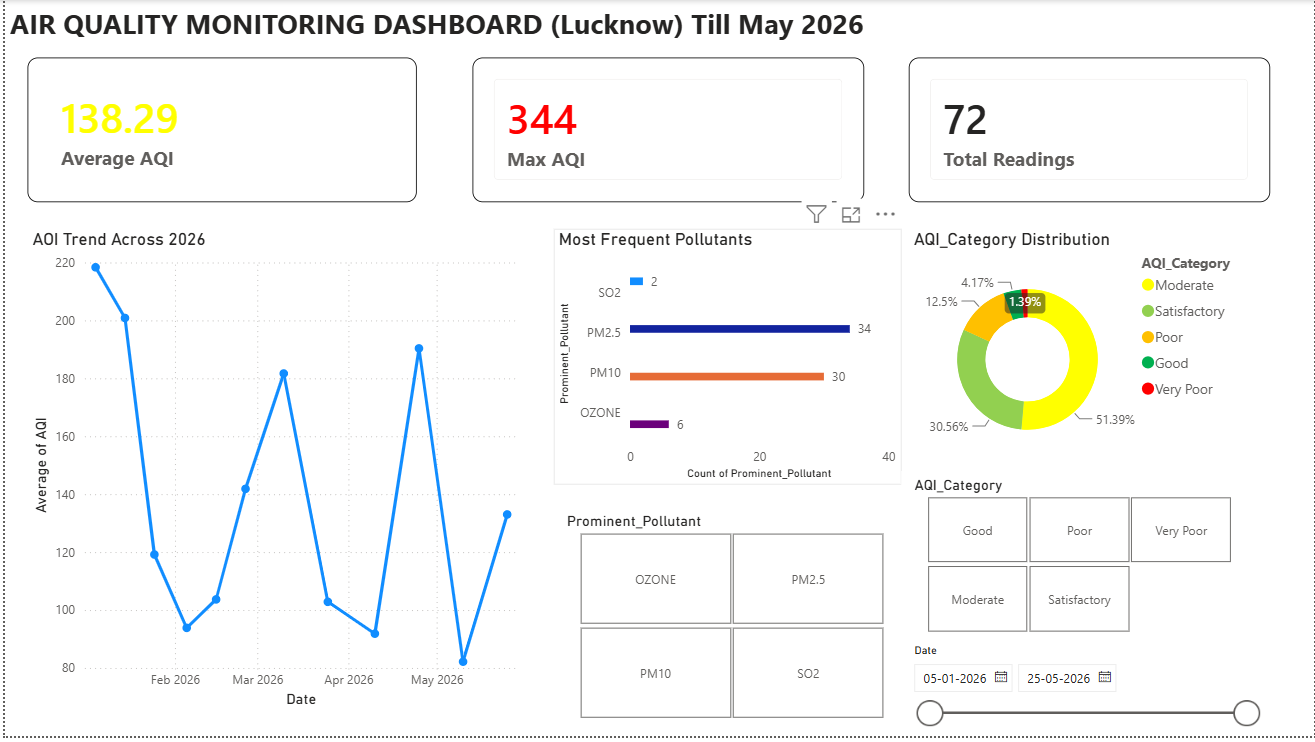

The dashboard page shown, as its layout file describes it:
{"tool":"powerbi","page":{"name":"Page 1","canvas":[1280,720],"ordinal":0},"visuals":[{"type":"cardVisual","fields":{"Data":["AQI_LKO_2026.Average AQI"]},"box":[22.3,56.3,380.9,141.4],"z":0},{"type":"cardVisual","fields":{"Data":["AQI_LKO_2026.Max AQI"]},"box":[456.9,56.3,383.6,141.4],"z":1000},{"type":"cardVisual","fields":{"Data":["AQI_LKO_2026.Total Readings"]},"box":[883.6,56.3,353.5,141.4],"z":2000},{"type":"lineChart","title":"AOI Trend Across 2026","fields":{"Y":["Avg(AQI_LKO_2026.AQI)"],"Category":["AQI_LKO_2026.Date"]},"box":[22.6,224.1,500.4,473.7],"z":3000},{"type":"clusteredBarChart","title":"Most Frequent Pollutants","fields":{"Category":["AQI_LKO_2026.Prominent_Pollutant"],"Series":["AQI_LKO_2026.Prominent_Pollutant"],"Y":["CountNonNull(AQI_LKO_2026.Prominent_Pollutant)"]},"box":[537.1,224.1,339.7,250.9],"z":4000},{"type":"donutChart","title":"AQI_Category Distribution","fields":{"Category":["AQI_LKO_2026.AQI_Category"],"Y":["CountNonNull(AQI_LKO_2026.AQI_Category)"]},"box":[883.9,224.1,339.7,236.8],"z":5000},{"type":"slicer","fields":{"Values":["AQI_LKO_2026.Date"]},"box":[876.8,624.5,359.5,95.9],"z":6000},{"type":"slicer","fields":{"Values":["AQI_LKO_2026.AQI_Category"]},"box":[876.8,461,346.8,163.5],"z":7000},{"type":"slicer","fields":{"Values":["AQI_LKO_2026.Prominent_Pollutant"]},"box":[537.1,496.2,346.8,212.9],"z":8000},{"type":"textbox","box":[0,0,1280.3,47.1],"z":9000}]}

Visuals, with their boxes in screenshot pixels (x1, y1, x2, y2), scaled from the page's 1280x720 canvas onto the 1315x742 screenshot:
cardVisual - AQI_LKO_2026.Average AQI: <bbox>23, 58, 414, 204</bbox>
cardVisual - AQI_LKO_2026.Max AQI: <bbox>469, 58, 863, 204</bbox>
cardVisual - AQI_LKO_2026.Total Readings: <bbox>908, 58, 1271, 204</bbox>
"AOI Trend Across 2026" lineChart: <bbox>23, 231, 537, 719</bbox>
"Most Frequent Pollutants" clusteredBarChart: <bbox>552, 231, 901, 490</bbox>
"AQI_Category Distribution" donutChart: <bbox>908, 231, 1257, 475</bbox>
slicer - AQI_LKO_2026.Date: <bbox>901, 644, 1270, 741</bbox>
slicer - AQI_LKO_2026.AQI_Category: <bbox>901, 475, 1257, 644</bbox>
slicer - AQI_LKO_2026.Prominent_Pollutant: <bbox>552, 511, 908, 731</bbox>
textbox: <bbox>0, 0, 1314, 49</bbox>
